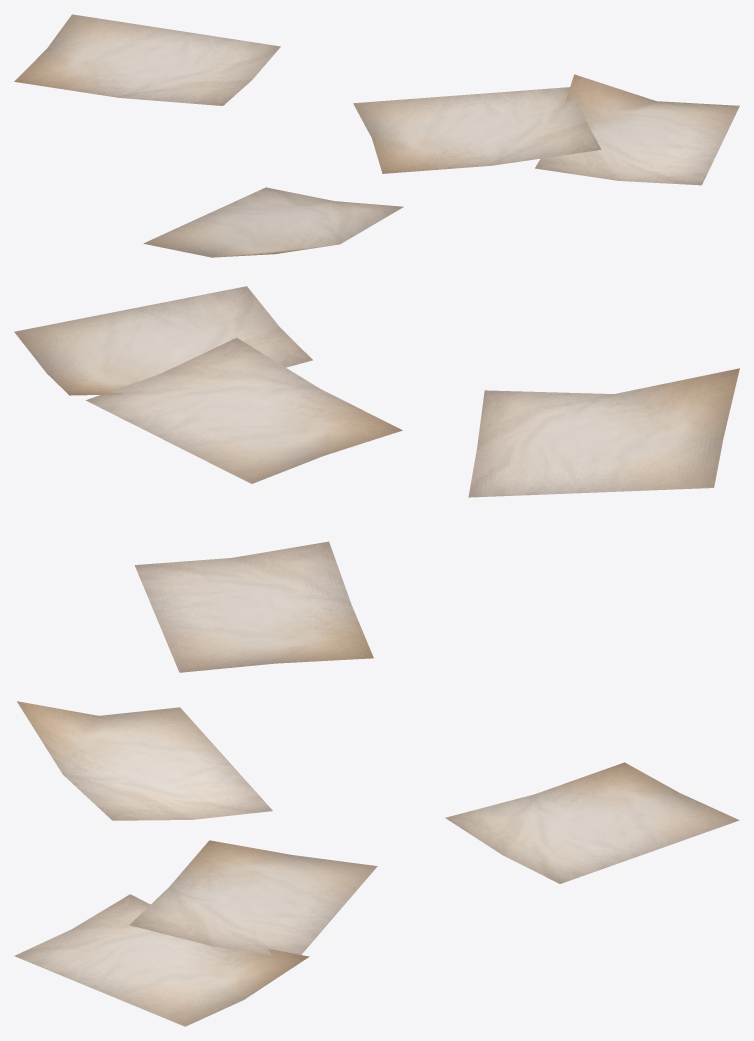
The model's file is a_paper02.glb.
The picture shows the model from 3 angles, top to bottom: view 1: azimuth 30°, elevation 25°; view 2: azimuth 150°, elevation 25°; view 3: azimuth 270°, elevation 25°; orthographic projection. The views are drawn at different scales.
Visible parts, largest first — view 1: a_paper02; view 2: a_paper02; view 3: a_paper02.
Part boxes in pixels (x1,y1,x2,y2): a_paper02: (14, 14, 739, 257); a_paper02: (14, 286, 739, 672); a_paper02: (14, 701, 739, 1026).
Size of the model in its own units: 1.31 by 0.1036 by 1.3.
1 material, 1 textured.
